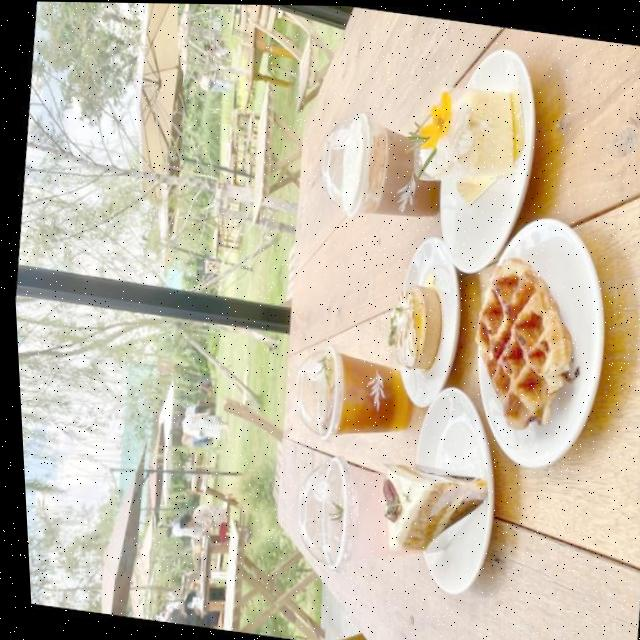cup: (257, 450, 430, 585), (267, 339, 426, 443), (312, 116, 453, 214)
